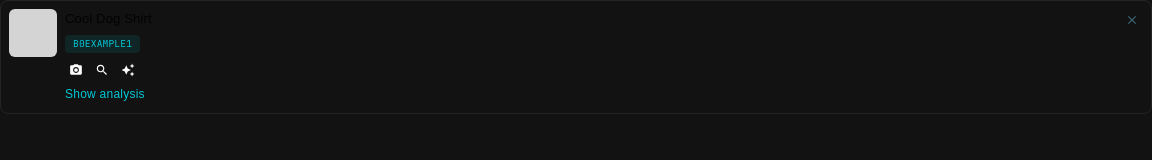
ReferenceCard › toggles analysis text visibility on click
# Click to expand
Click the text "Show analysis" at (105, 94), box [65, 85, 145, 103]
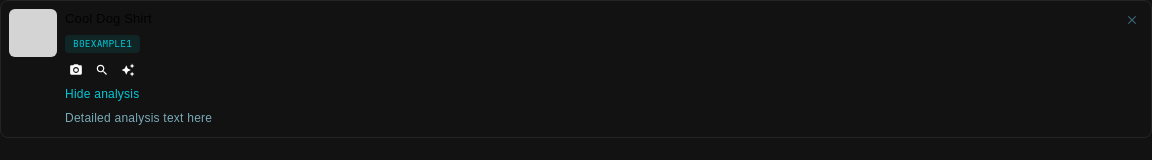
Check: the text "Hide analysis" is shown, box [65, 85, 140, 103]
Check: the text "Detailed analysis text here" is shown, box [65, 105, 212, 125]
